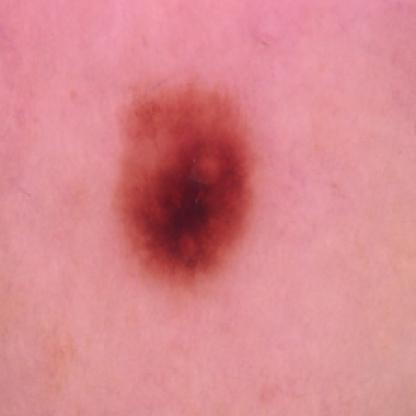benign: (119, 78, 251, 275)
